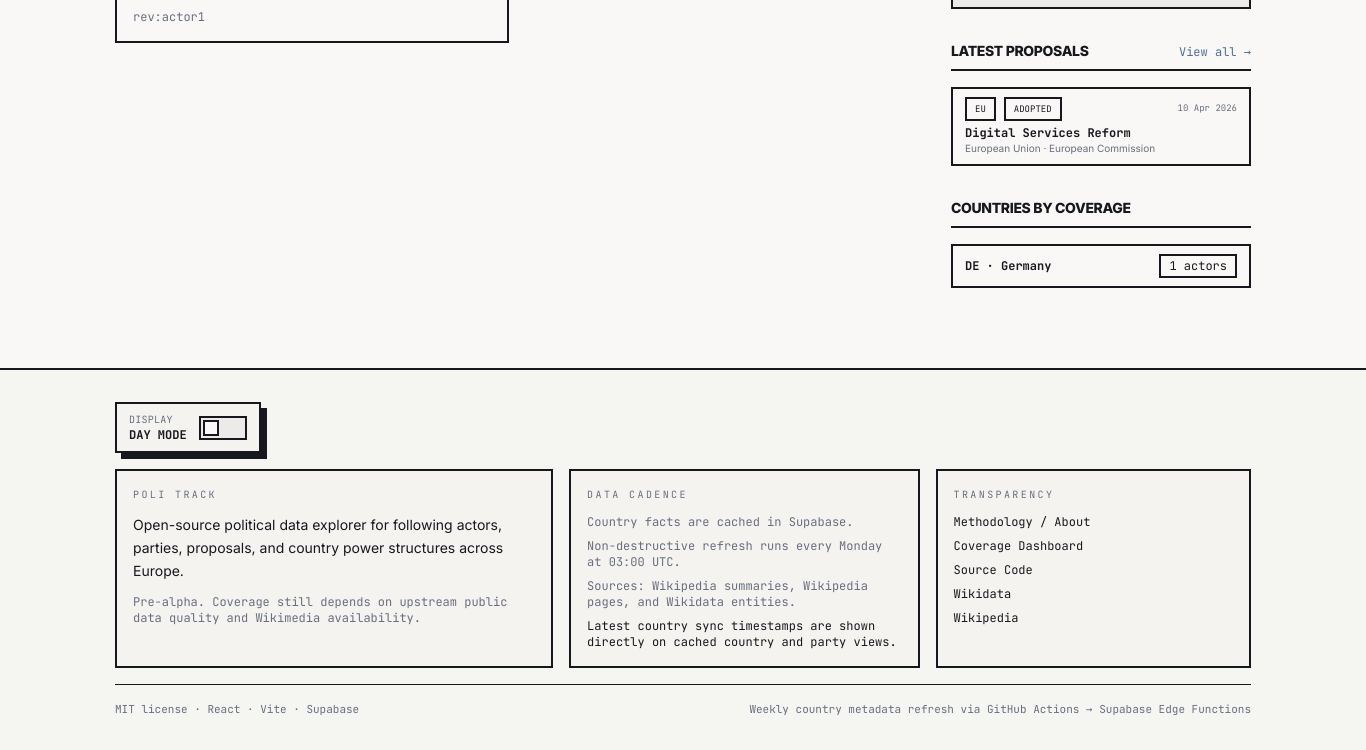
Test case: App › toggles night mode from the footer switch and persists it
(page scrolled)
Click the switch named "Night mode" at (188, 428), box [115,402,261,453]
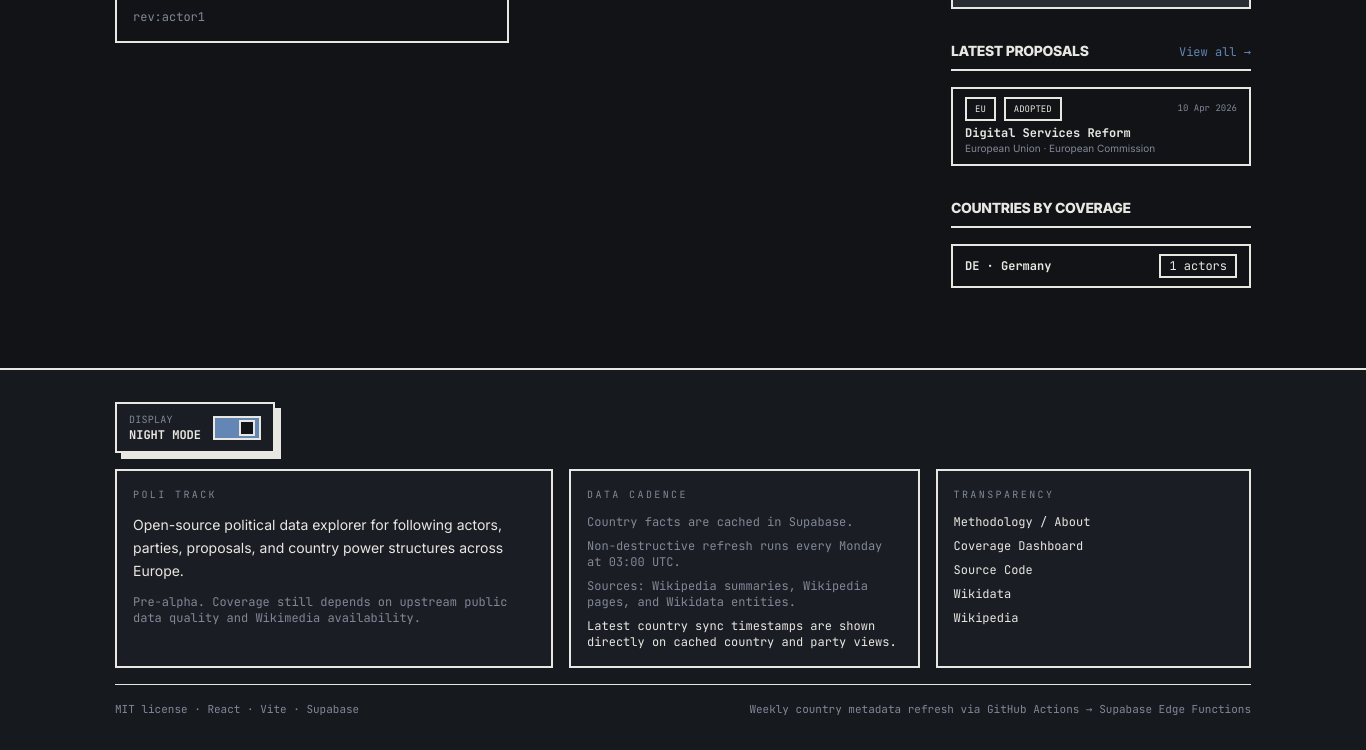
expect the switch labelled "Night mode" is checked: met, box [115,402,275,453]
